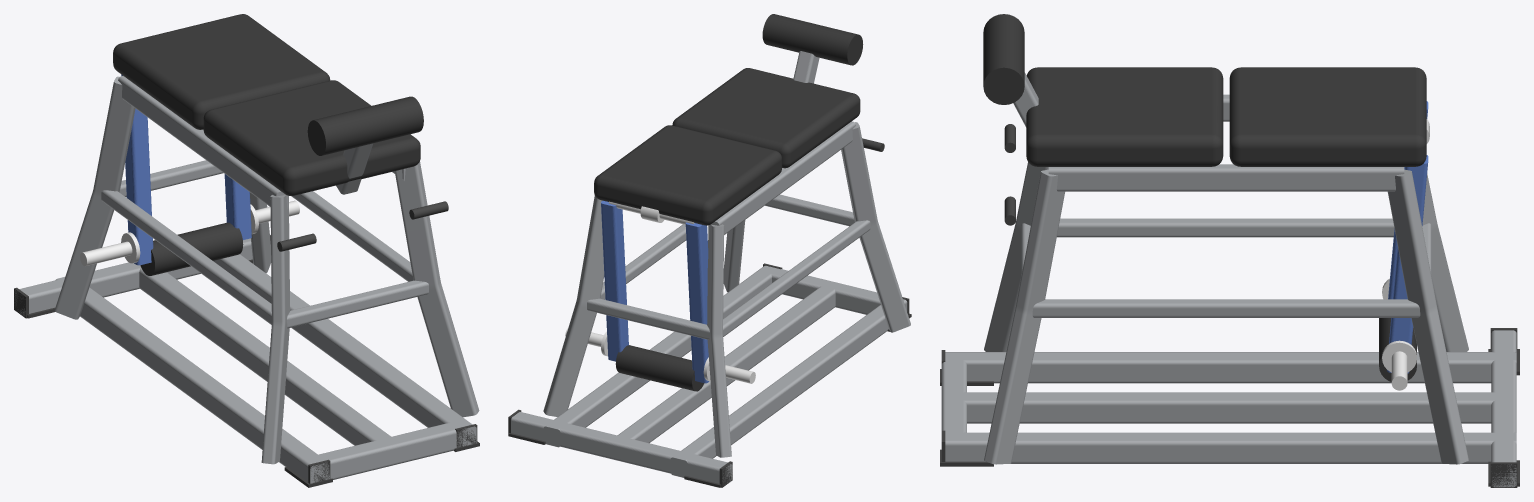
3 views of the same model, side by side, from view 1: azimuth 30°, elevation 25°; view 2: azimuth 150°, elevation 25°; view 3: azimuth 270°, elevation 25° (orthographic). The views are drawn at different scales.
Parts seen in each view (by area): view 1: base, table_leg_tube (×4), table_pad_rear, table_pad, table_brace (×2), table, head_roller, lever_bar (×2), table_rail, lever_roller, lever_horn (×2), head_post; view 2: base, table_leg_tube (×4), table_pad_rear, table_pad, lever_bar (×2), table_brace (×2), table, head_roller, table_rail, lever_roller, head_post, lever_horn; view 3: base, table_leg_tube (×4), table_pad_rear, table_pad, table_brace (×2), table_rail, head_roller, lever_bar, table, lever_horn, lever_roller, end_cap.
Part boxes in pixels (x1,y1,x2,y2): base: (14, 238, 476, 483); table_leg_tube (×4): (54, 76, 479, 464); table_pad_rear: (113, 14, 330, 129); table_pad: (203, 80, 420, 195); table_brace (×2): (101, 190, 413, 324); table: (119, 160, 448, 328); head_roller: (307, 96, 423, 155); lever_bar (×2): (121, 74, 251, 265); table_rail: (118, 76, 288, 209); lever_roller: (140, 222, 243, 275); lever_horn (×2): (80, 200, 299, 266); head_post: (336, 143, 373, 194); base: (511, 265, 907, 483); table_leg_tube (×4): (543, 122, 910, 457); table_pad_rear: (594, 125, 782, 225); table_pad: (672, 68, 860, 168); lever_bar (×2): (601, 200, 709, 383); table_brace (×2): (600, 220, 870, 336); table: (587, 138, 884, 339); head_roller: (762, 14, 863, 65); table_rail: (708, 121, 855, 236); lever_roller: (615, 345, 703, 391); head_post: (793, 51, 819, 83); lever_horn: (703, 357, 755, 383); base: (941, 330, 1516, 487); table_leg_tube (×4): (984, 162, 1468, 464); table_pad_rear: (1229, 67, 1426, 166); table_pad: (1026, 67, 1223, 166); table_brace (×2): (1032, 218, 1420, 317); table_rail: (1048, 164, 1404, 191); head_roller: (983, 14, 1024, 104); lever_bar: (1387, 155, 1428, 373); table: (1004, 124, 1431, 275); lever_horn: (1382, 340, 1416, 390); lever_roller: (1379, 318, 1416, 381); end_cap: (1490, 462, 1517, 487).
Bounding box in the file's own units: 1.01 × 1.32 × 1.83.
